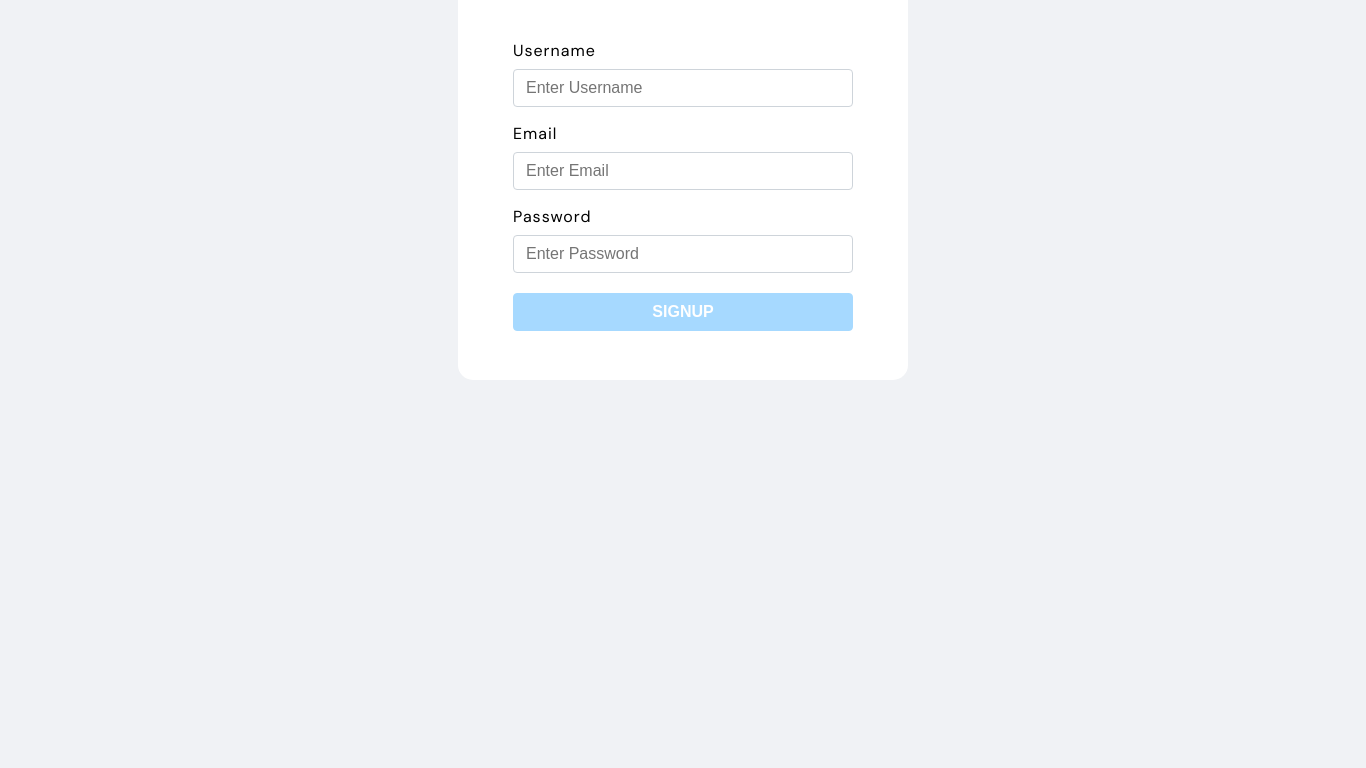
Test: Register › Error › should display error alert and border
Type "manny" into the field labelled "Username" at (683, 88), box [513,69,853,107]
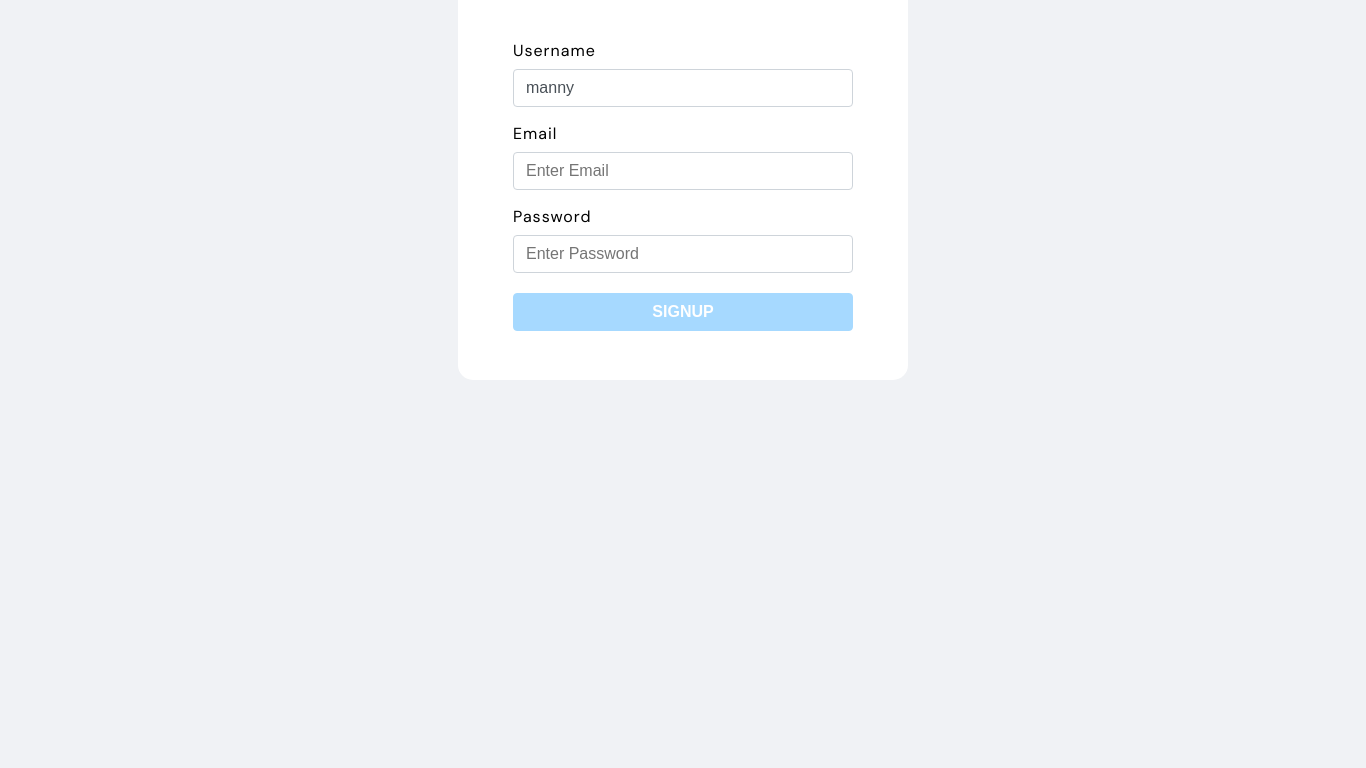
Type "manny@test.com" into the field labelled "Email" at (683, 171), box [513,152,853,190]
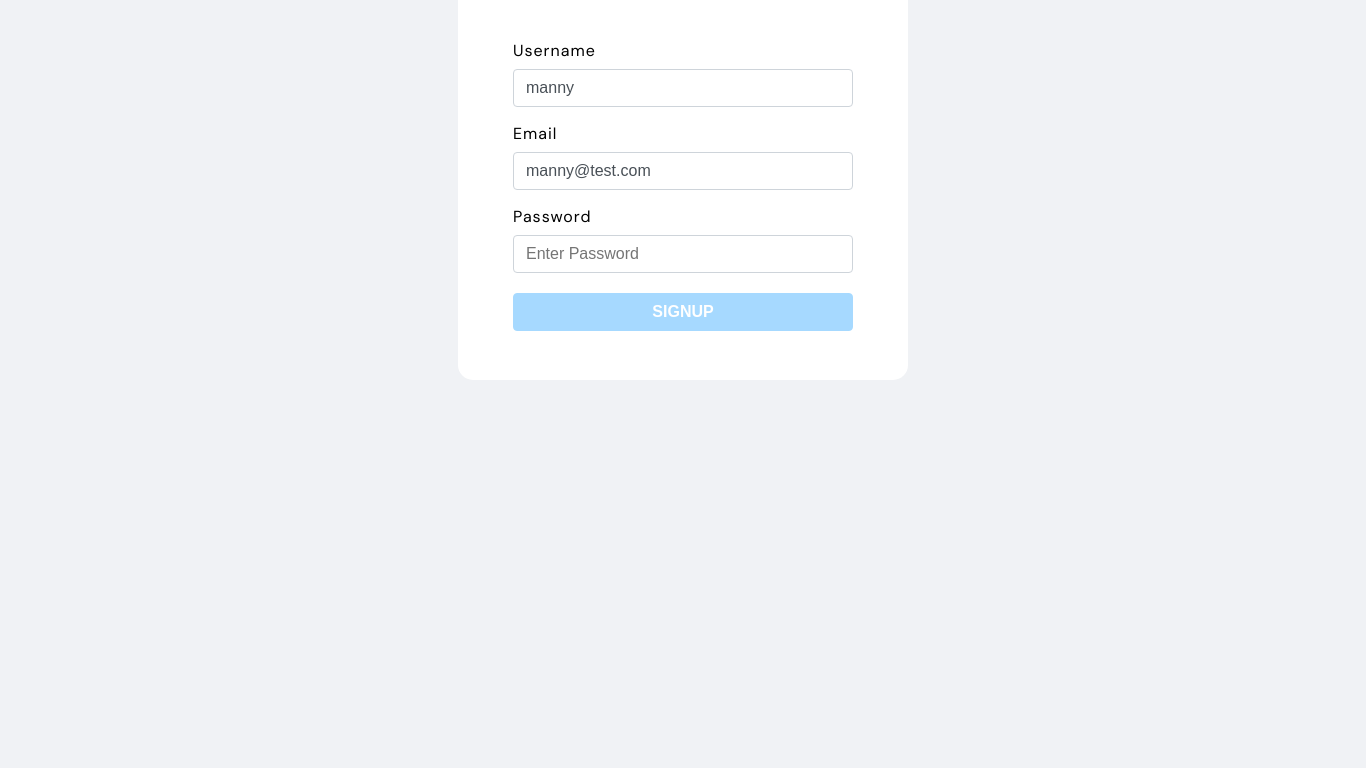
Type "qwerty" into the password field labelled "Password" at (683, 254), box [513,235,853,273]
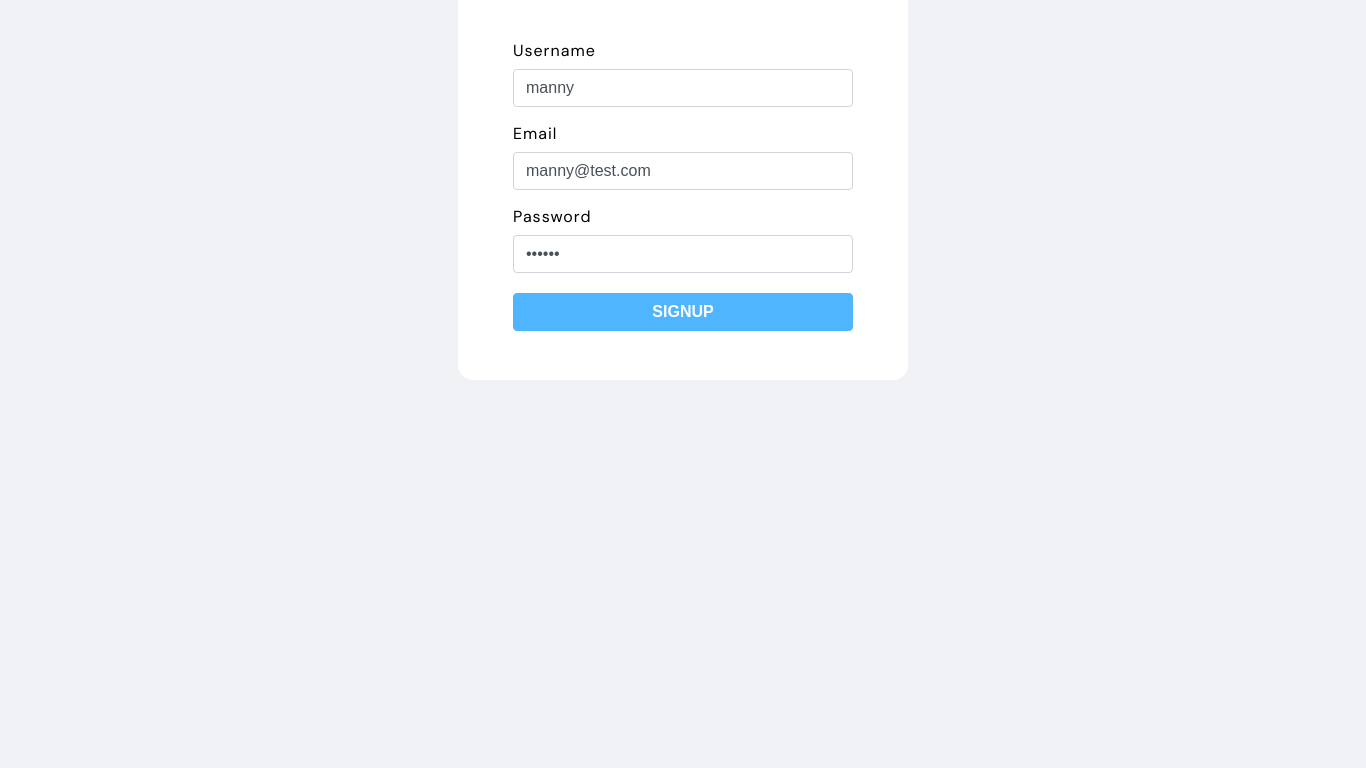
Click the button at (683, 312), box [513,293,853,331]
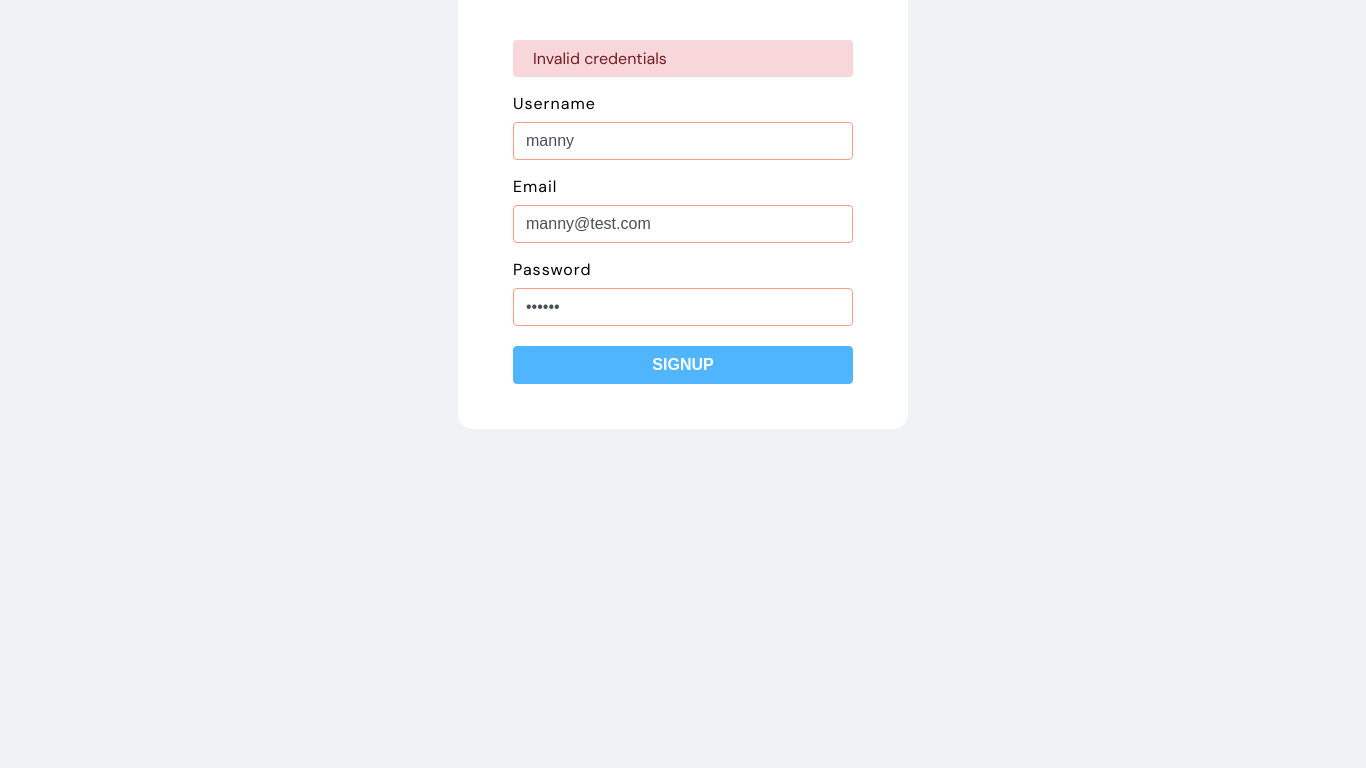
Expected: the message "Invalid credentials" is shown, [513,40,853,77]
Expected: the message reads "Invalid credentials", [533,48,667,69]
